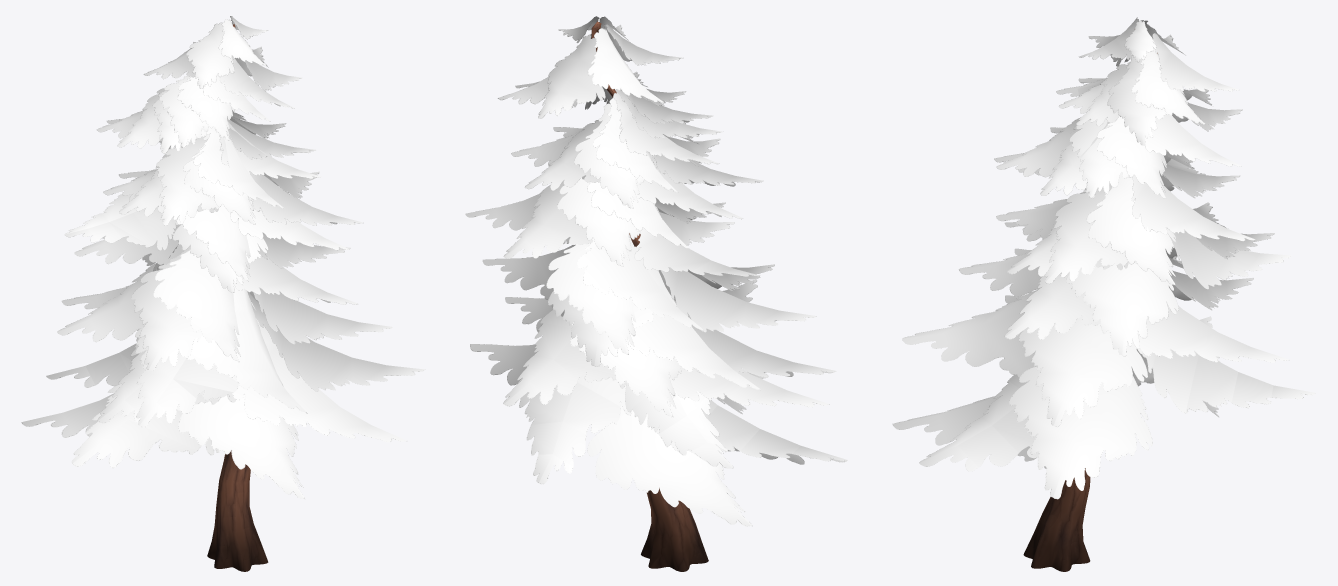
Rendered from Pine_5.gltf.
3 views of the same model, side by side, from view 1: azimuth 30°, elevation 25°; view 2: azimuth 150°, elevation 25°; view 3: azimuth 270°, elevation 25° (orthographic). The views are drawn at different scales.
Visible parts, largest first — view 1: Pine_5; view 2: Pine_5; view 3: Pine_5.
Boxes of the visible parts, x1,y1,x2,y2 form: Pine_5: [21, 16, 424, 571]; Pine_5: [465, 16, 847, 571]; Pine_5: [892, 17, 1315, 571].
Bounding box in the file's own units: 6.42 × 8.72 × 6.22.
2 materials, 2 textured.
